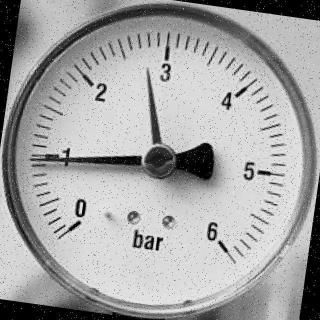gauge: (0, 0, 320, 320), (195, 217, 246, 269), (54, 194, 101, 250), (137, 138, 180, 184), (139, 62, 156, 82), (25, 152, 45, 166)
